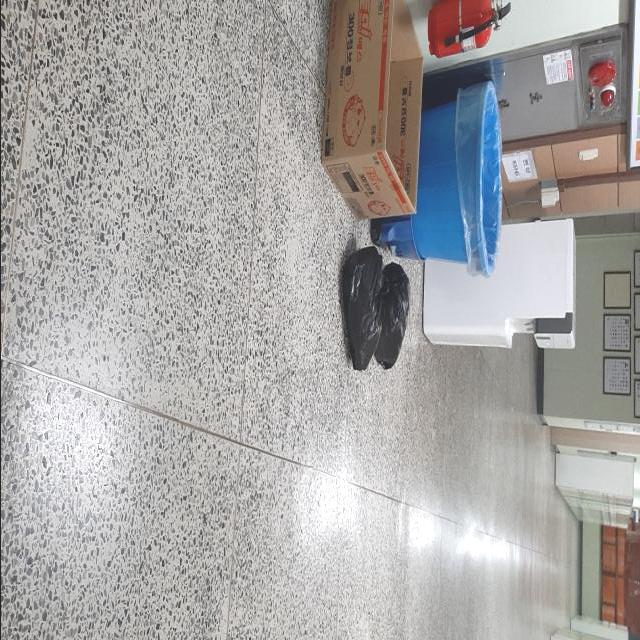black_bag: (338, 246, 382, 372), (376, 262, 412, 370)
